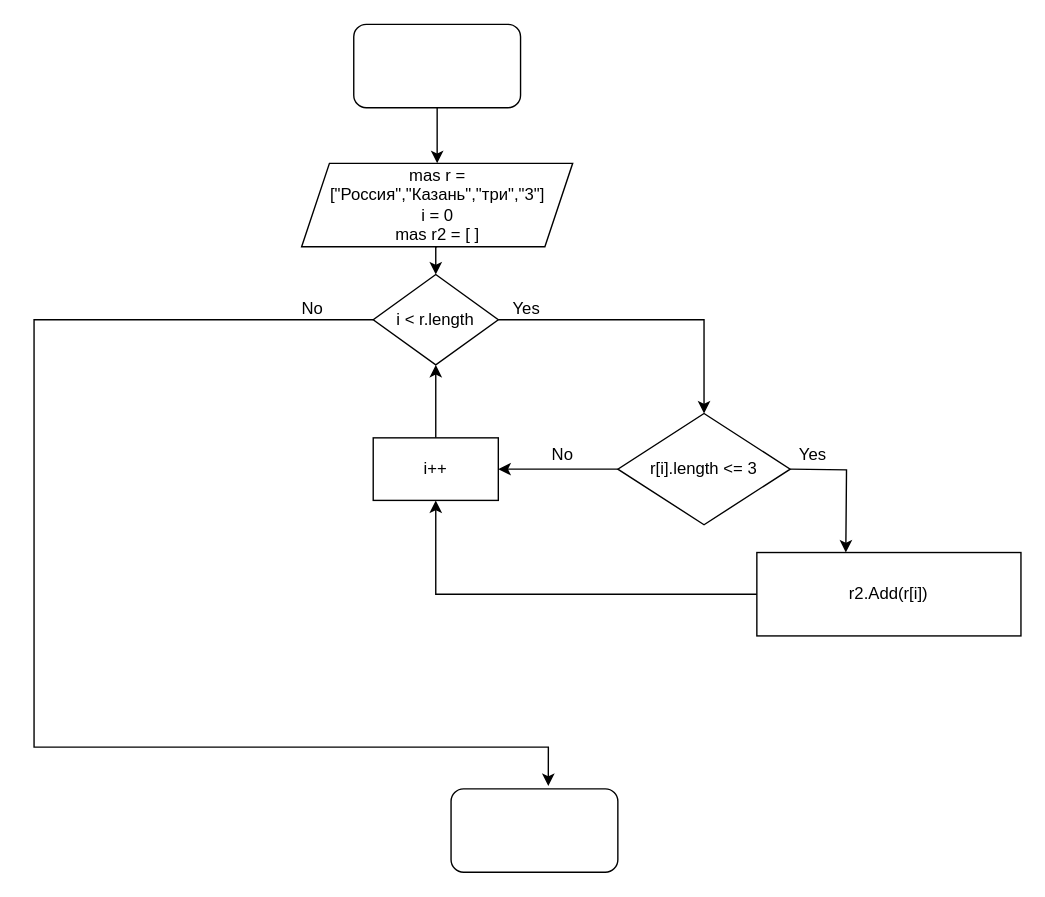
The diagram is 1045 pixels wide and 897 high, and some of its shapes have lost their labels. The shapes that lost their labels are listed below. From the top down, each one's centre as x and y in pixels, then its label:
At [436,65]: "Start".
At [534,829]: "Print r2".
